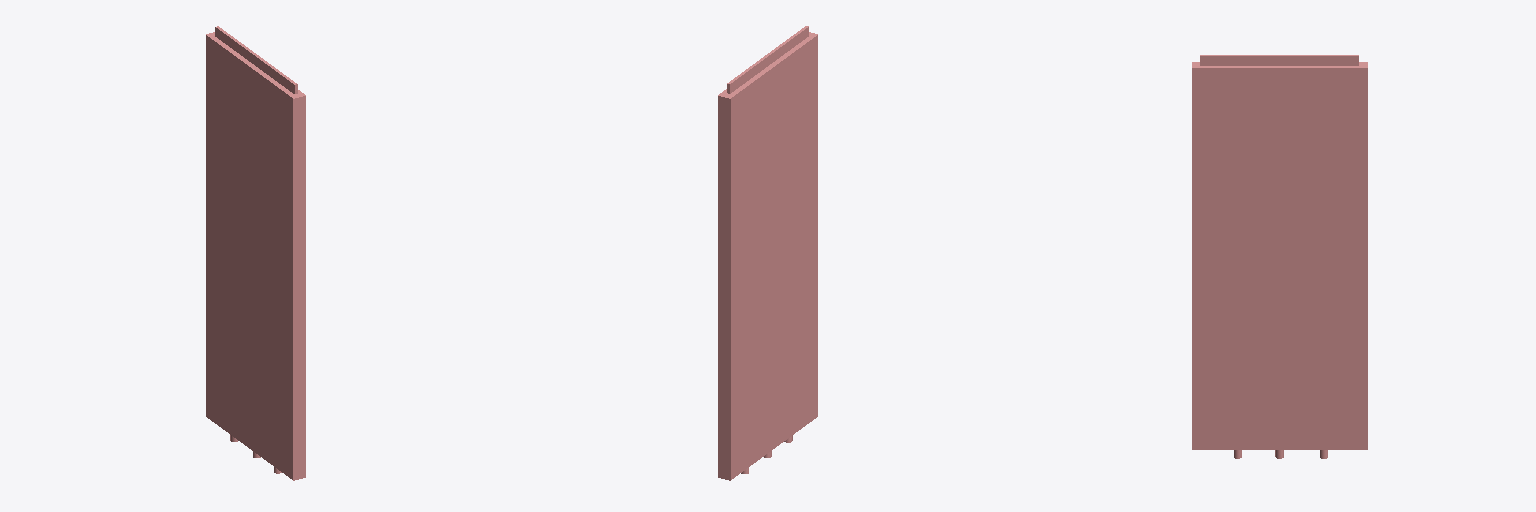
Rendered from ryggMidCol.obj.
3 views of the same model, side by side, from view 1: azimuth 30°, elevation 25°; view 2: azimuth 150°, elevation 25°; view 3: azimuth 270°, elevation 25° (orthographic).
Parts seen in each view (by area): view 1: rygg_mid; view 2: rygg_mid; view 3: rygg_mid.
Boxes of the visible parts, <box> form: rygg_mid: <box>206,26,305,480</box>; rygg_mid: <box>718,26,817,480</box>; rygg_mid: <box>1192,55,1367,458</box>.
Bounding box in the file's own units: 7 × 206 × 82.